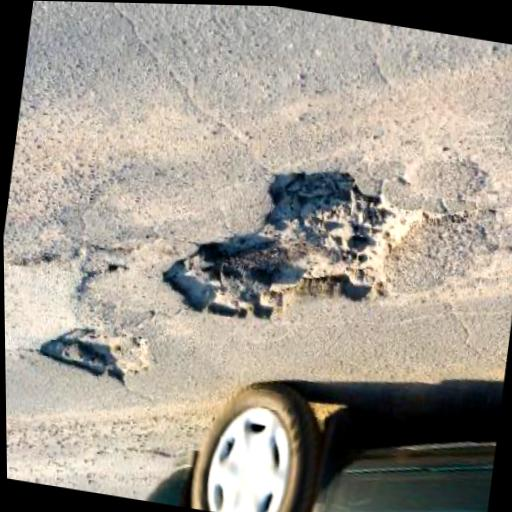pothole: (152, 144, 429, 356), (32, 320, 155, 393)
